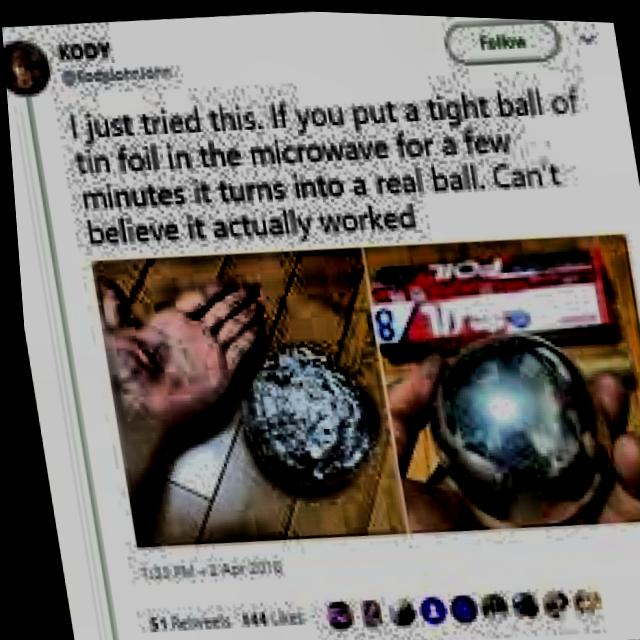Foil: (219, 329, 381, 504)
